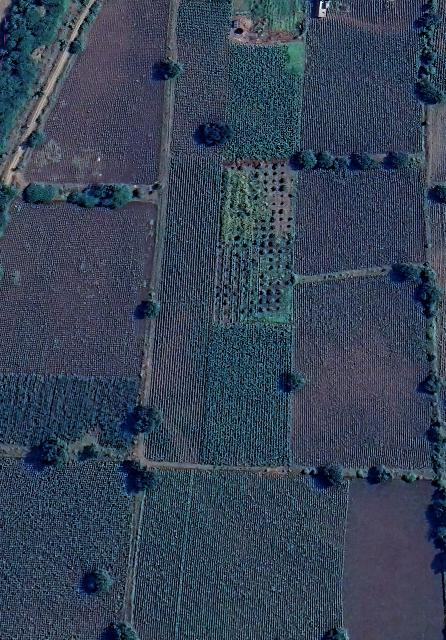EmptyFarms: (343, 475, 442, 640)
Farms: (131, 464, 349, 640), (2, 374, 142, 640), (288, 272, 431, 469), (0, 198, 156, 376), (202, 162, 293, 466), (18, 0, 169, 182), (147, 161, 223, 464), (302, 0, 424, 152), (294, 154, 429, 278), (166, 0, 232, 158), (229, 40, 305, 160)
